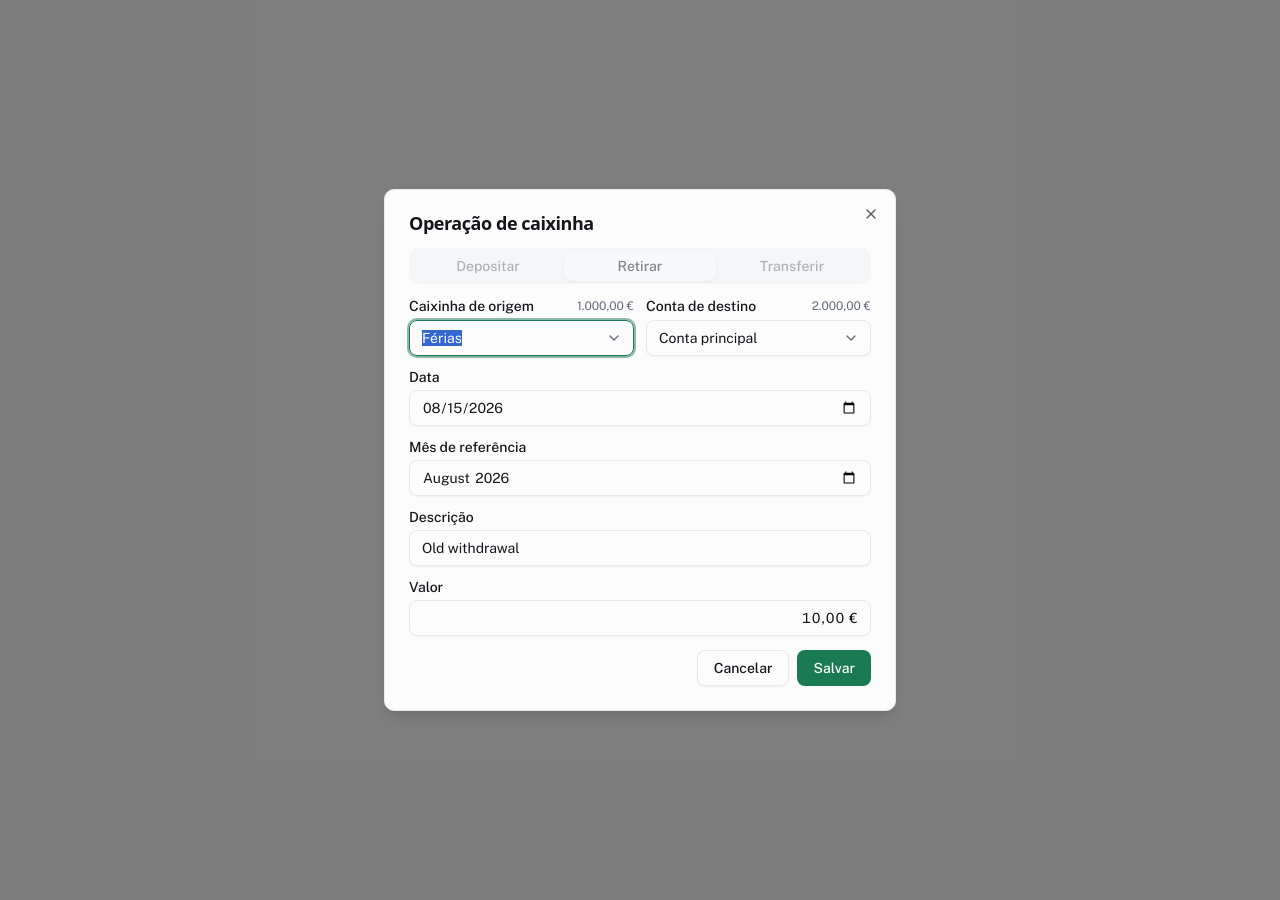
Test: CashboxOperationDialog › keeps edit mode open and shows the API error when updating fails
Click the button "Salvar" at (834,668), box x1=798 y1=650 x2=871 y2=686
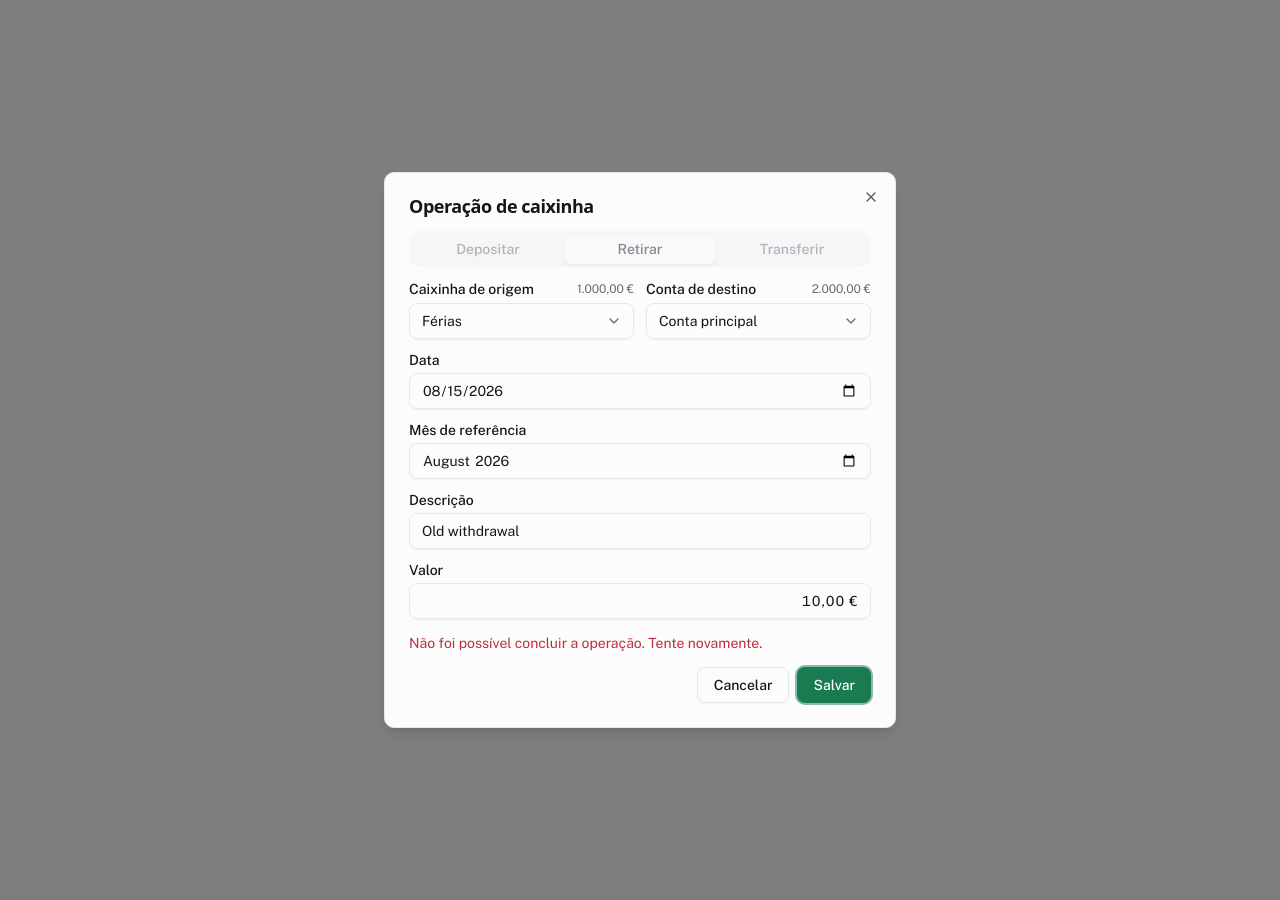
Result: the message "Não foi possível concluir a operação. Tente novamente." is shown at x1=409 y1=635 x2=762 y2=651
